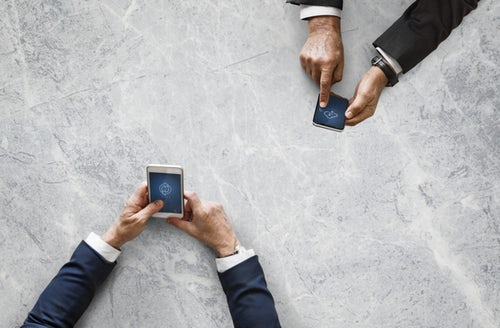phone: (146, 163, 184, 222), (312, 89, 349, 134)
